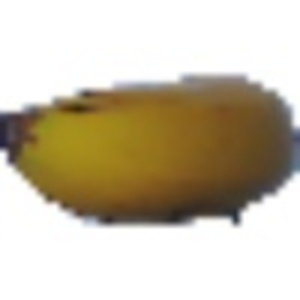banana: (3, 55, 293, 235)
